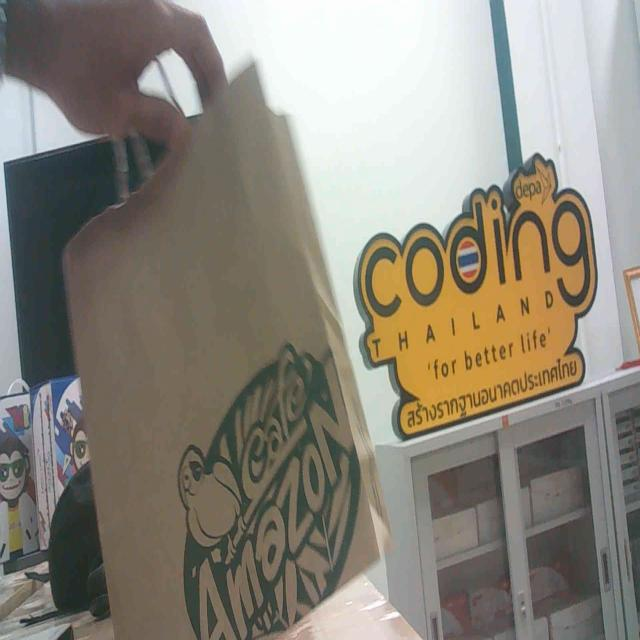bag: (72, 153, 366, 640)
